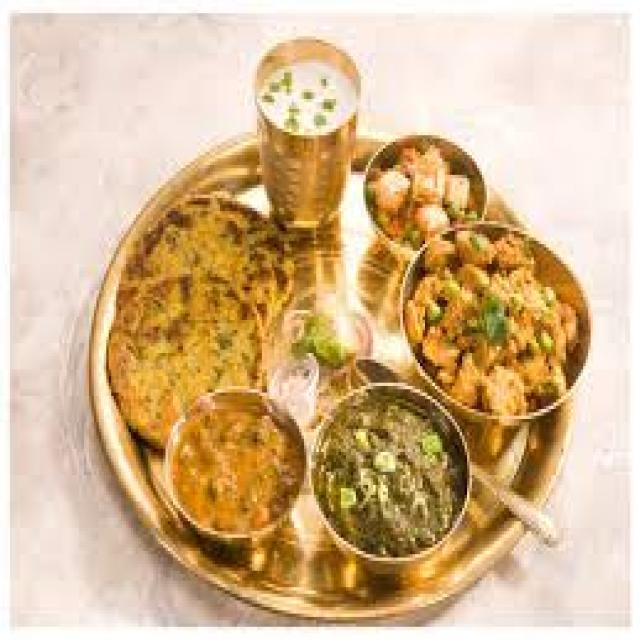dal: (311, 388, 466, 560), (156, 396, 300, 545), (106, 346, 180, 439)
raita: (255, 50, 357, 135)
rice: (119, 182, 276, 417), (410, 227, 565, 417), (316, 380, 467, 566)
